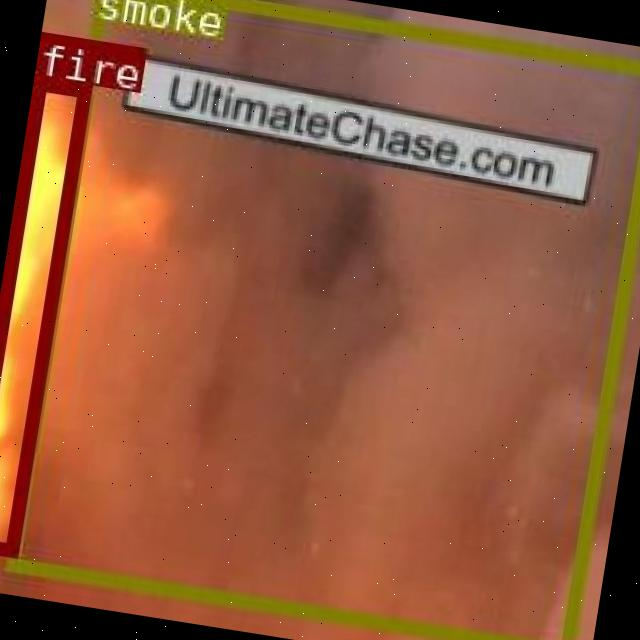fire: (0, 73, 88, 556)
smoke: (3, 0, 640, 640)
